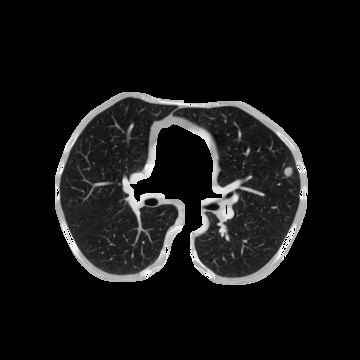PN: (283, 166, 293, 176)
